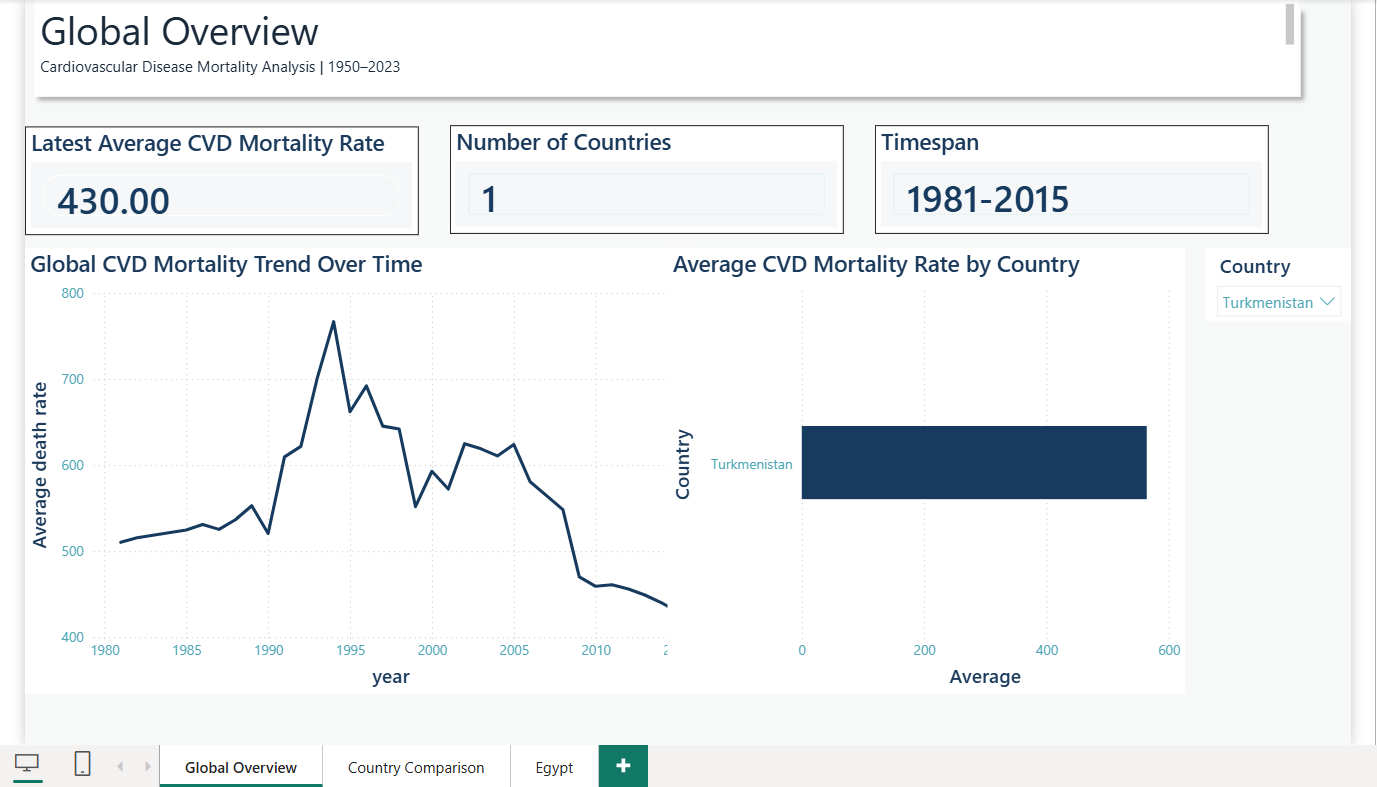

The page's visual inventory and layout, read from the dashboard file:
{"tool":"powerbi","page":{"name":"Global Overview","canvas":[1280,720],"ordinal":0},"visuals":[{"type":"cardVisual","title":"Latest Average CVD Mortality Rate","fields":{"Data":["cvd_mortality_clean.latest_mortality_rate"]},"box":[0,122.5,380,105],"z":0},{"type":"cardVisual","title":"Number of Countries","fields":{"Data":["cvd_mortality_clean.Number_countries"]},"box":[410,122,380,105],"z":1000},{"type":"cardVisual","title":"Timespan","fields":{"Data":["cvd_mortality_clean.Timespan"]},"box":[820,122,380,105],"z":2000},{"type":"lineChart","title":"Global CVD Mortality Trend Over Time","fields":{"Category":["cvd_mortality_clean.year"],"Y":["Avg(cvd_mortality_clean.death_rate)"]},"box":[0,240,650,430],"z":3000},{"type":"slicer","fields":{"Values":["cvd_mortality_clean.country"]},"box":[1140,240,140,70],"z":4000},{"type":"clusteredBarChart","title":"Average CVD Mortality Rate by Country","fields":{"Category":["cvd_mortality_clean.country"],"Y":["cvd_mortality_clean.Average"]},"box":[620,240,500,430],"z":5000},{"type":"shape","box":[0,0,1240,103.3],"z":6000},{"type":"textbox","box":[10,0,1220,54.1],"z":7000},{"type":"textbox","box":[10,50,391.1,31.1],"z":8000}]}

Visuals, with their boxes on the page's 1280x720 design canvas (x1, y1, x2, y2). These are canvas units, not pixel positions in the 1377x787 screenshot, which may show the page scaled, cropped or inside an application window:
"Latest Average CVD Mortality Rate" cardVisual: (0, 122, 380, 228)
"Number of Countries" cardVisual: (410, 122, 790, 227)
"Timespan" cardVisual: (820, 122, 1200, 227)
"Global CVD Mortality Trend Over Time" lineChart: (0, 240, 650, 670)
slicer - cvd_mortality_clean.country: (1140, 240, 1280, 310)
"Average CVD Mortality Rate by Country" clusteredBarChart: (620, 240, 1120, 670)
shape: (0, 0, 1240, 103)
textbox: (10, 0, 1230, 54)
textbox: (10, 50, 401, 81)
